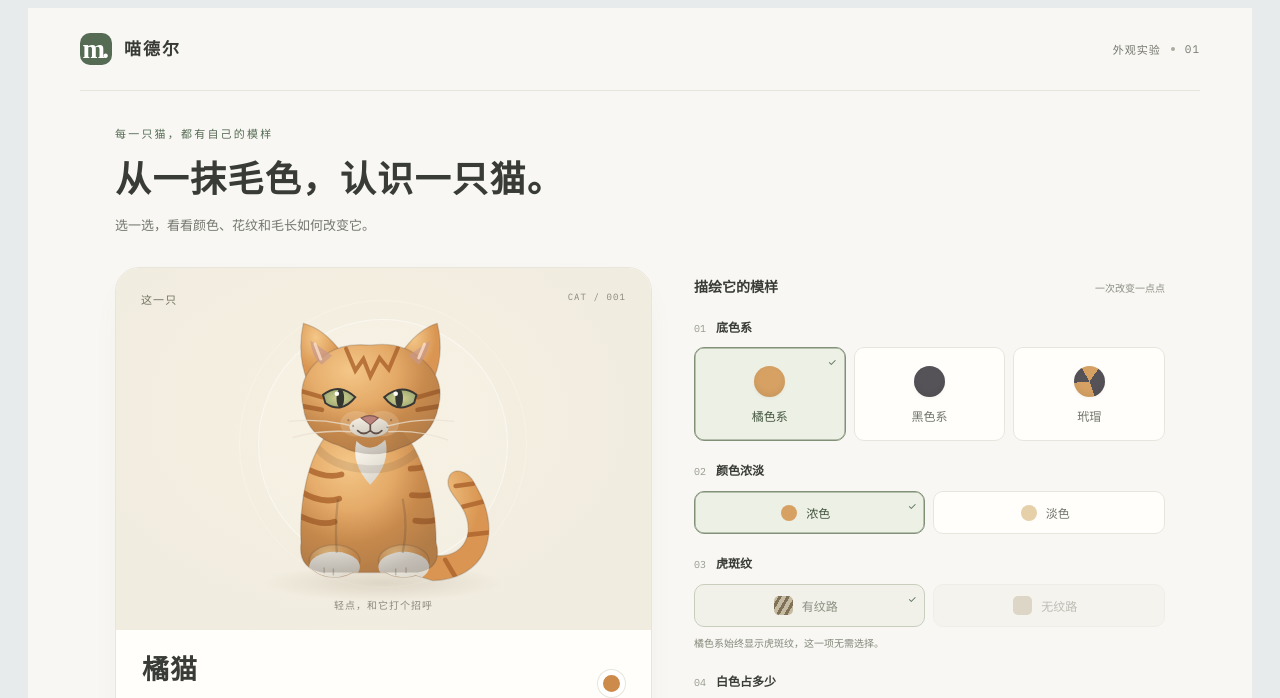
it: 单猫样板与既有表型规则保持一致 › 从纯色蓝猫切到橘色系，恢复虎斑并保留稀释属性
The width and height of the screenshot is (1280, 698).
Click the button "黑色系" at (929,394), box [854,348,1005,442]
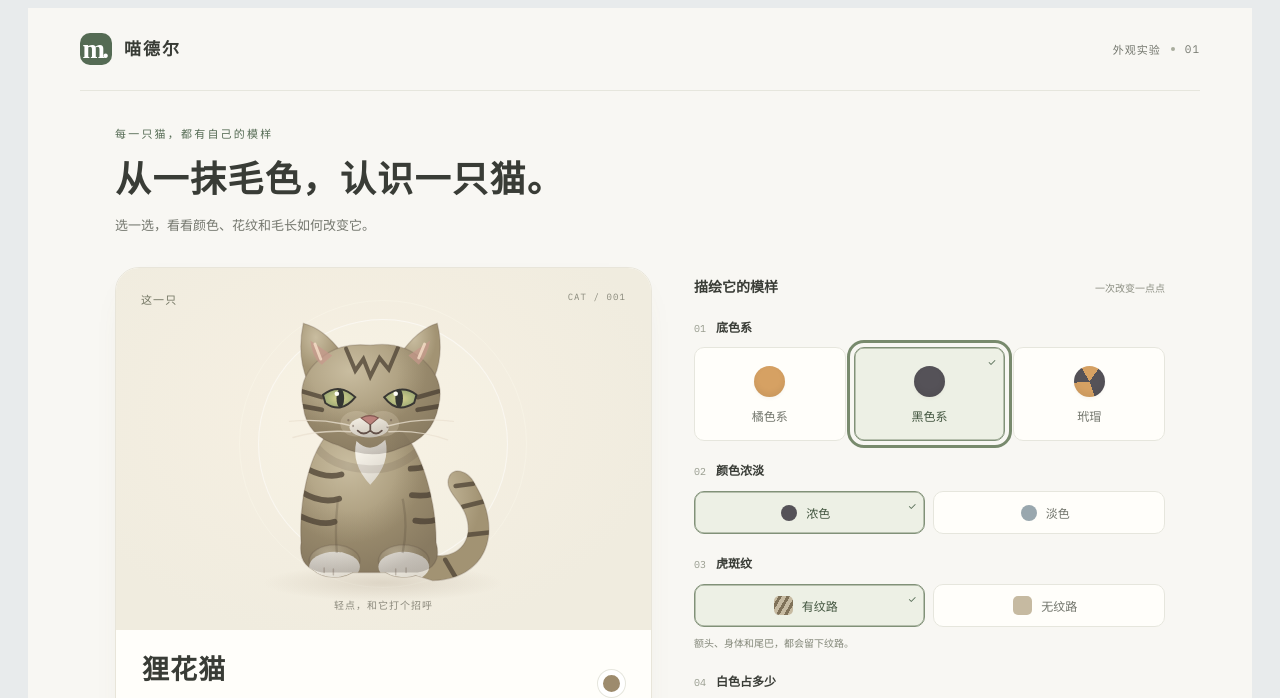
Click the button "无纹路" at (1049,606), box [934,584,1165,627]
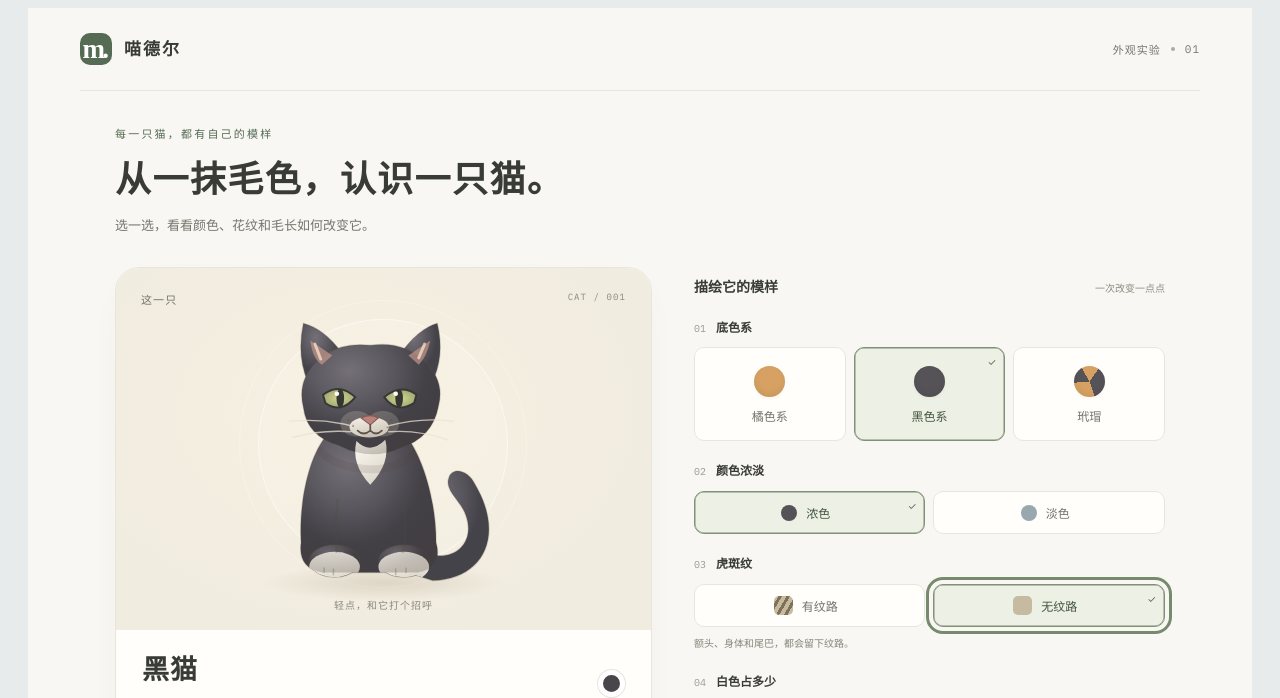
Click the button "淡色" at (1049,513), box [934,491,1165,534]
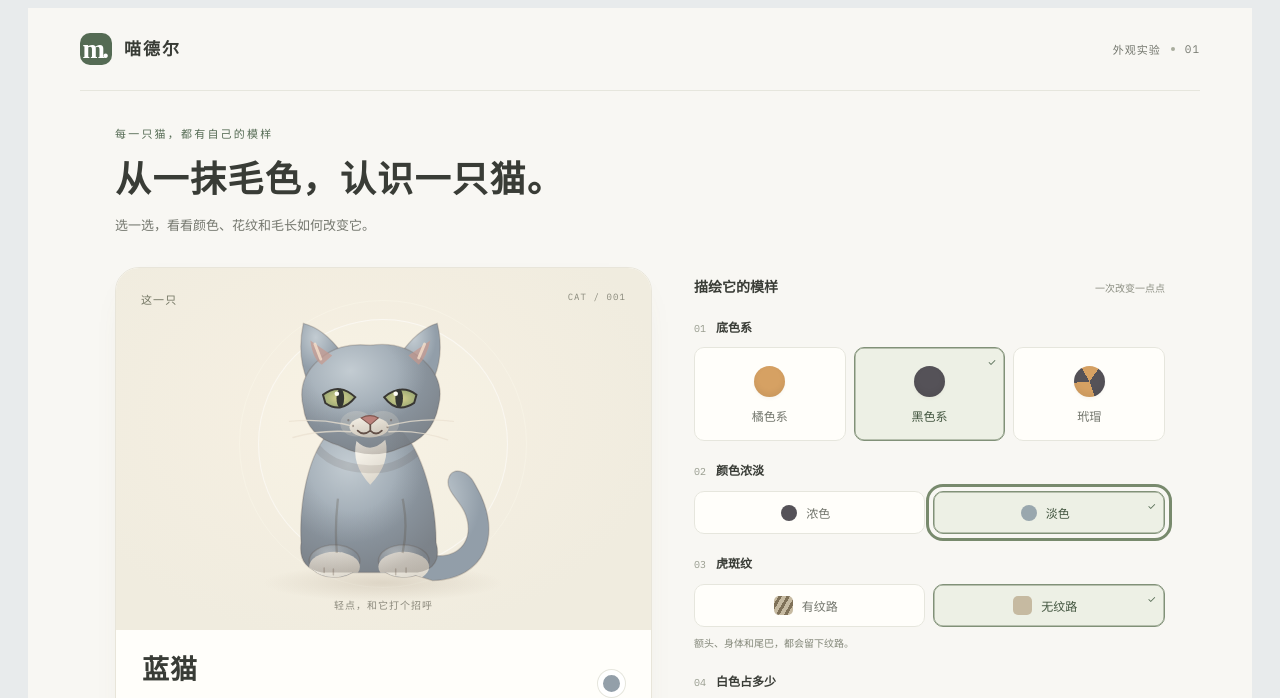
Check: the picture named "短毛蓝猫" is shown, box [234,300,534,612]
Click the button "橘色系" at (770,394), box [694,348,846,442]
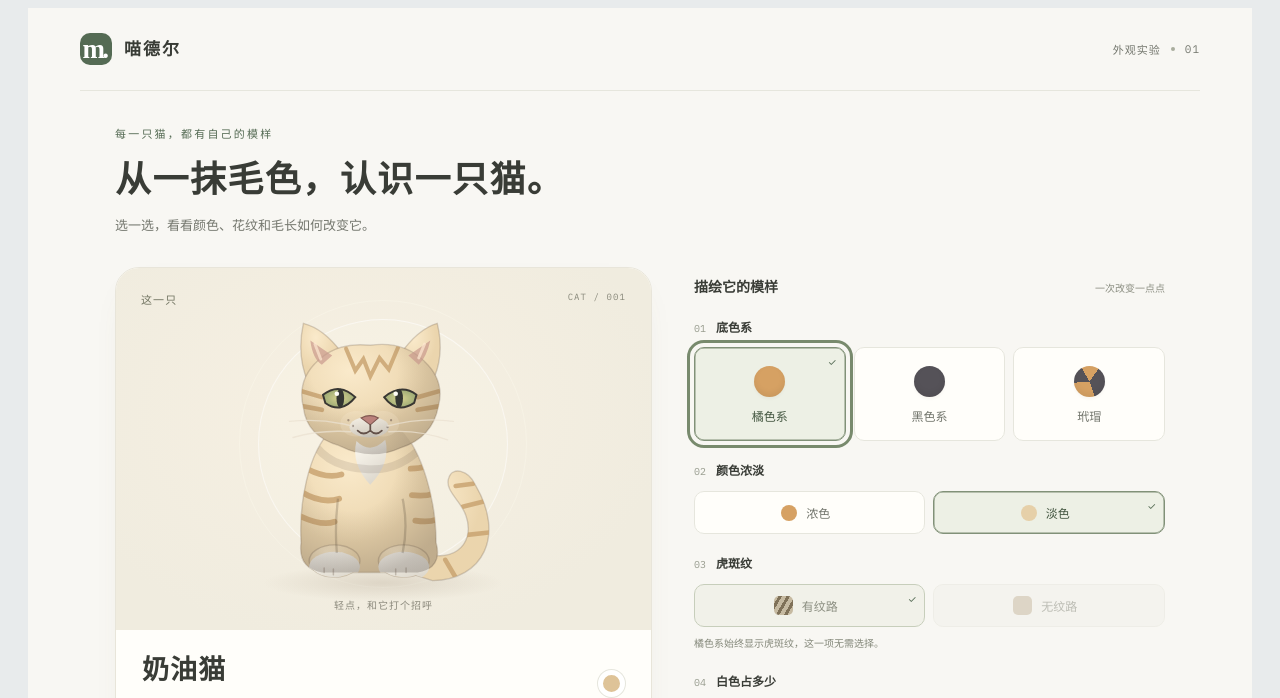
Check: the picture named "短毛奶油猫" is shown, box [234,300,534,612]
Check: the button "无纹路" is disabled, box [934,584,1165,627]
